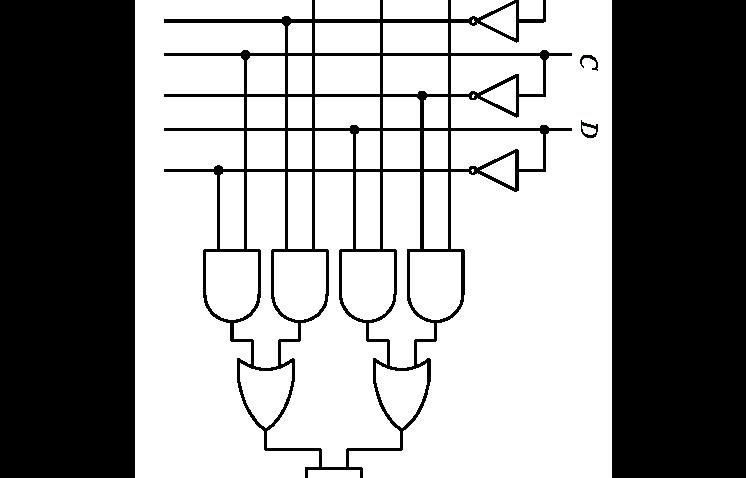and: (400, 240, 470, 332), (332, 240, 398, 330), (196, 242, 265, 328), (267, 243, 333, 327), (298, 458, 367, 478)
not: (462, 146, 527, 198), (463, 0, 533, 45), (465, 72, 528, 122)
or: (230, 350, 301, 436), (369, 352, 436, 437)
